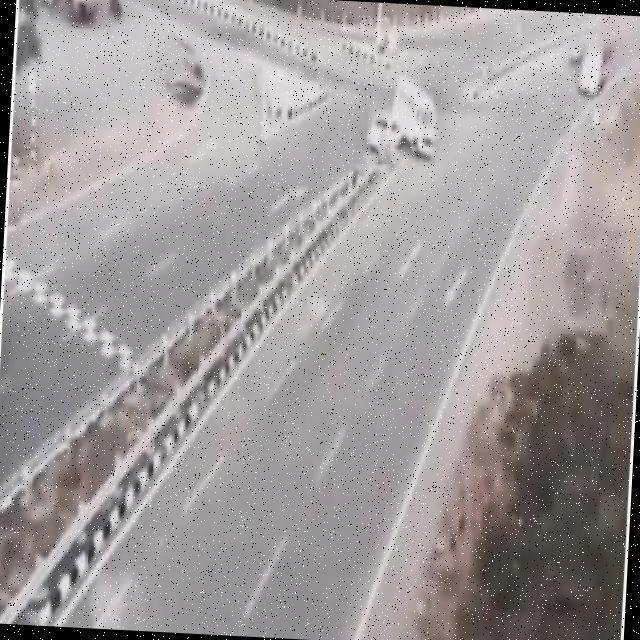accident: (365, 75, 443, 164)
